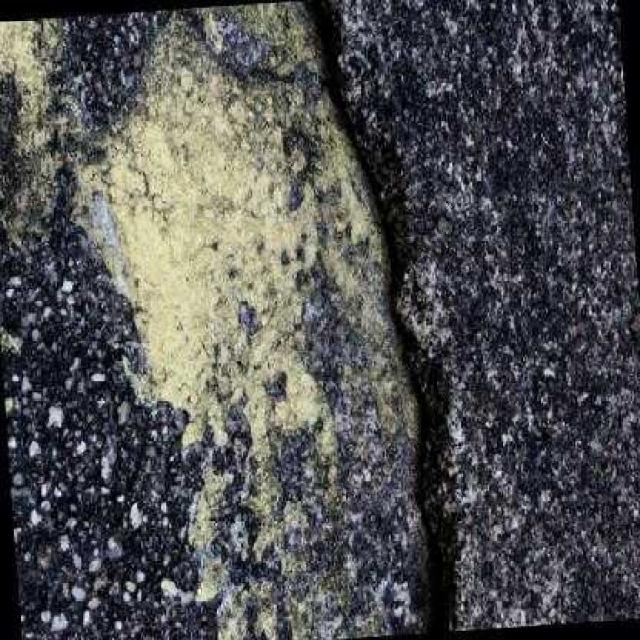D00: (304, 0, 453, 627)
